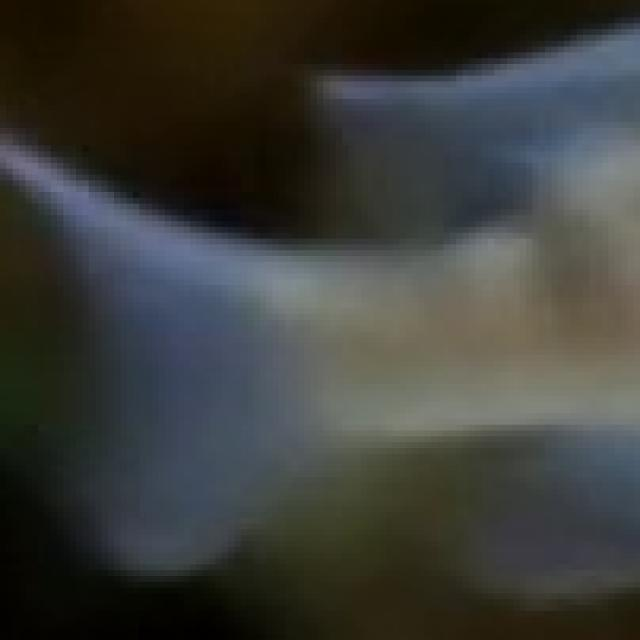fish: (0, 6, 634, 640)
